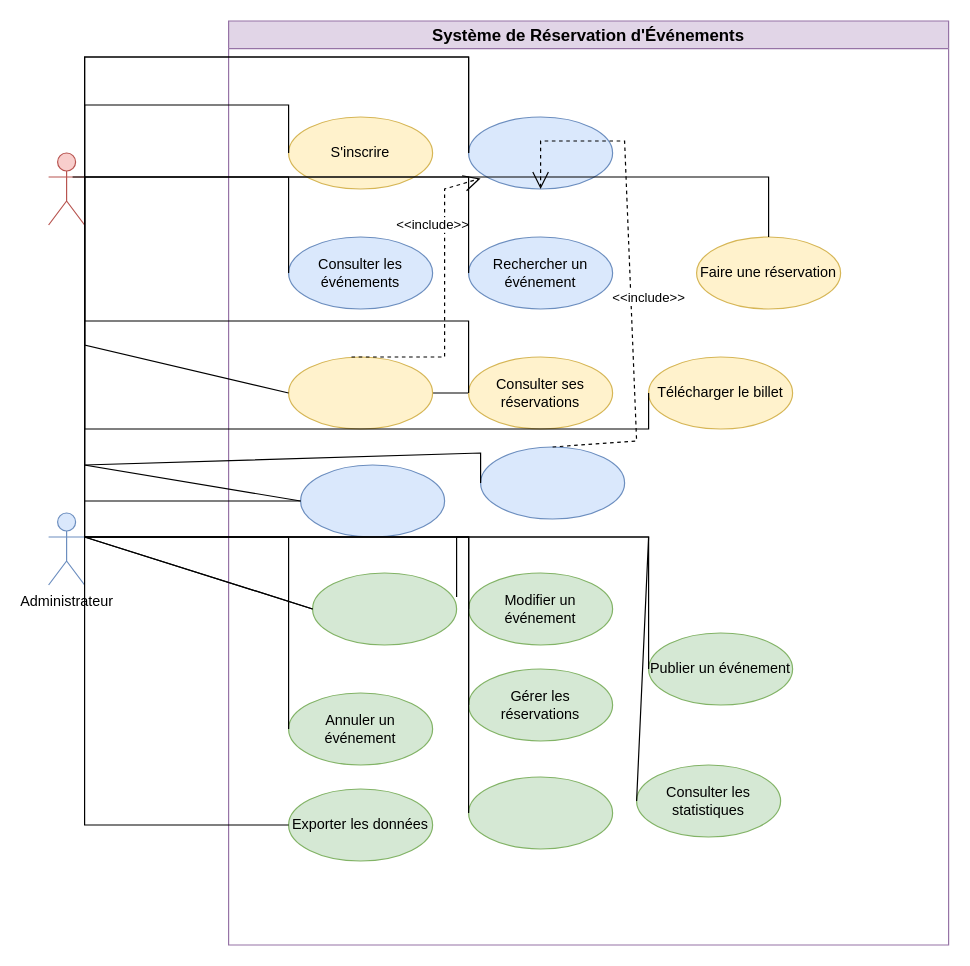
Image size: 970x966. Some labels were removed from this diagram. The shapes that lost their labels are listed below. From the top down, each one's centre as x and y in pixels, then its label:
At point (540, 152): "Se connecter".
At point (66, 188): "Participant".
At point (360, 392): "Annuler une réservation".
At point (372, 500): "Consulter les notifications".
At point (552, 482): "Modifier son profil".
At point (384, 608): "Créer un événement".
At point (540, 812): "Gérer les catégories".
